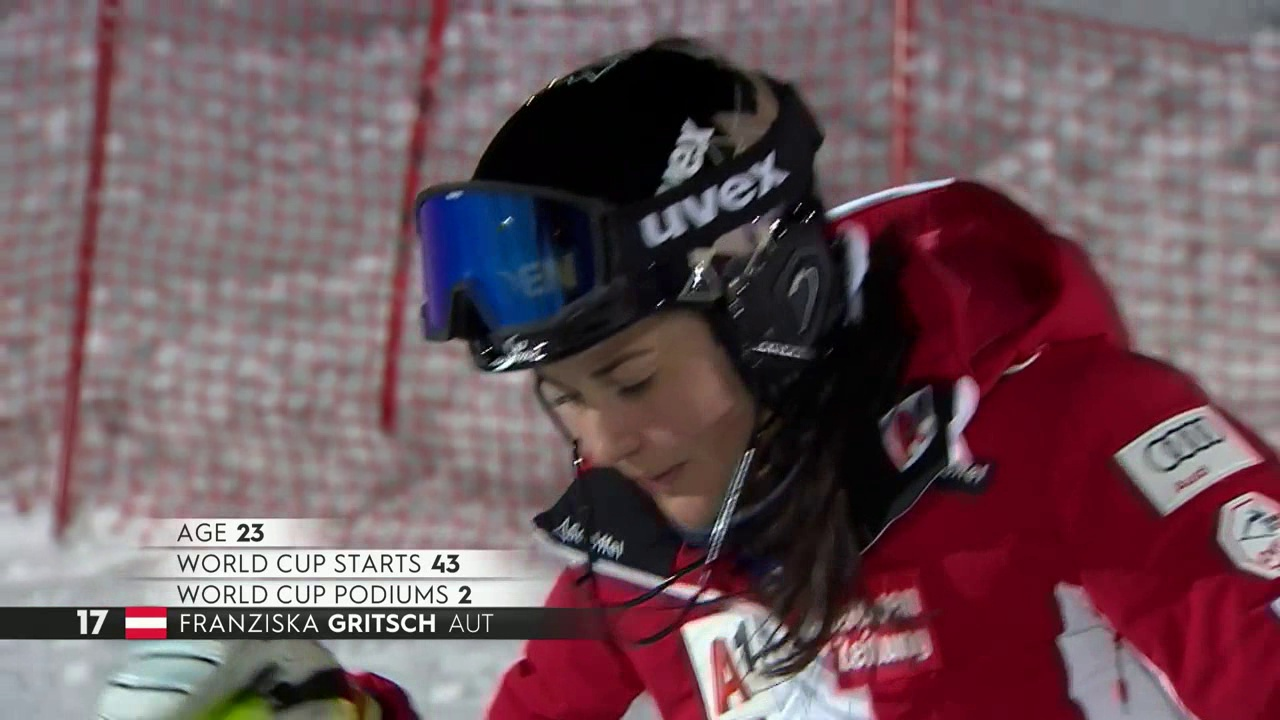a1: (697, 624, 762, 719)
